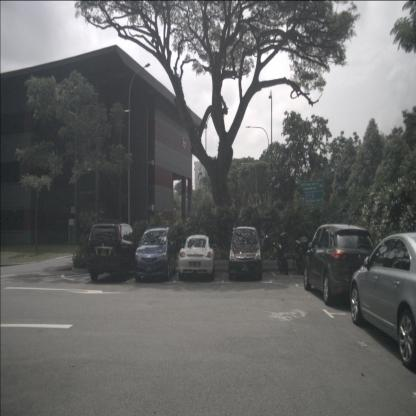vehicle-car: (349, 231, 416, 359), (304, 224, 378, 308), (87, 222, 142, 282), (134, 226, 177, 282), (228, 226, 262, 281), (178, 235, 217, 282)
vehicle-motorcycle: (271, 232, 290, 276), (293, 236, 309, 275)
